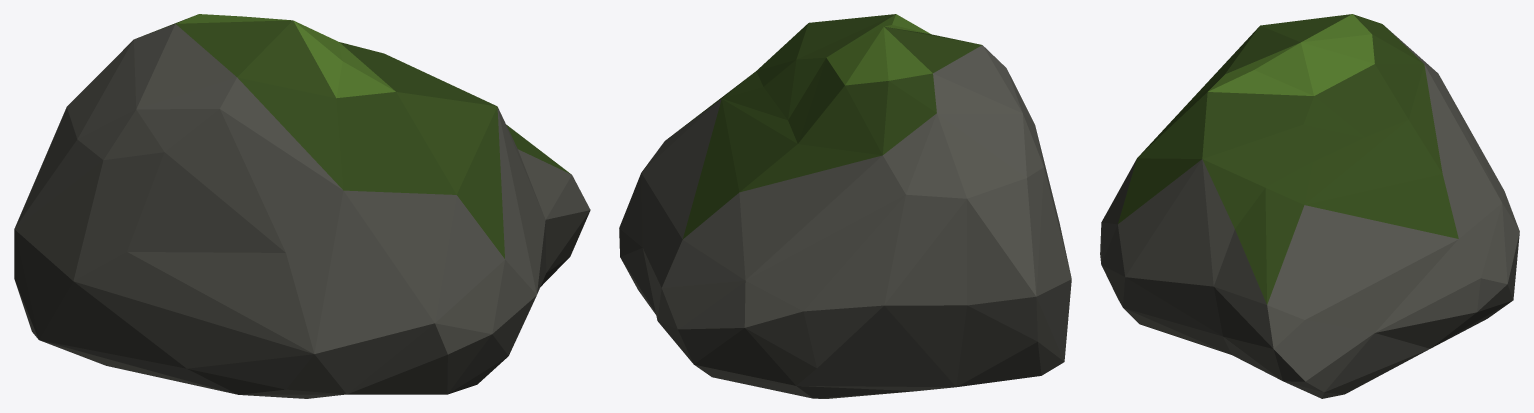
The model's file is Kaya002.fbx.
3 views of the same model, side by side, from view 1: azimuth 30°, elevation 25°; view 2: azimuth 150°, elevation 25°; view 3: azimuth 270°, elevation 25° (orthographic). The views are drawn at different scales.
Parts seen in each view (by area): view 1: Icosphere.007; view 2: Icosphere.007; view 3: Icosphere.007.
Part boxes in pixels (x1=…): Icosphere.007: x1=14, y1=14, x2=590, y2=398; Icosphere.007: x1=619, y1=14, x2=1071, y2=398; Icosphere.007: x1=1100, y1=14, x2=1519, y2=398.
Bounding box in the file's own units: 1.35 × 1.21 × 0.8527.
